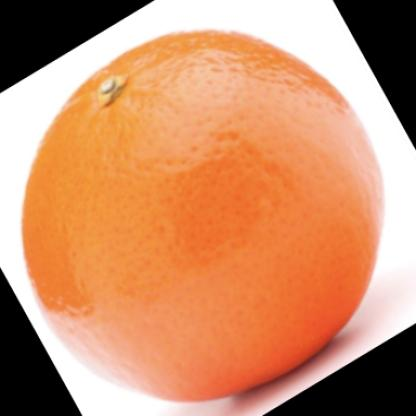fresh: (23, 32, 384, 403)
